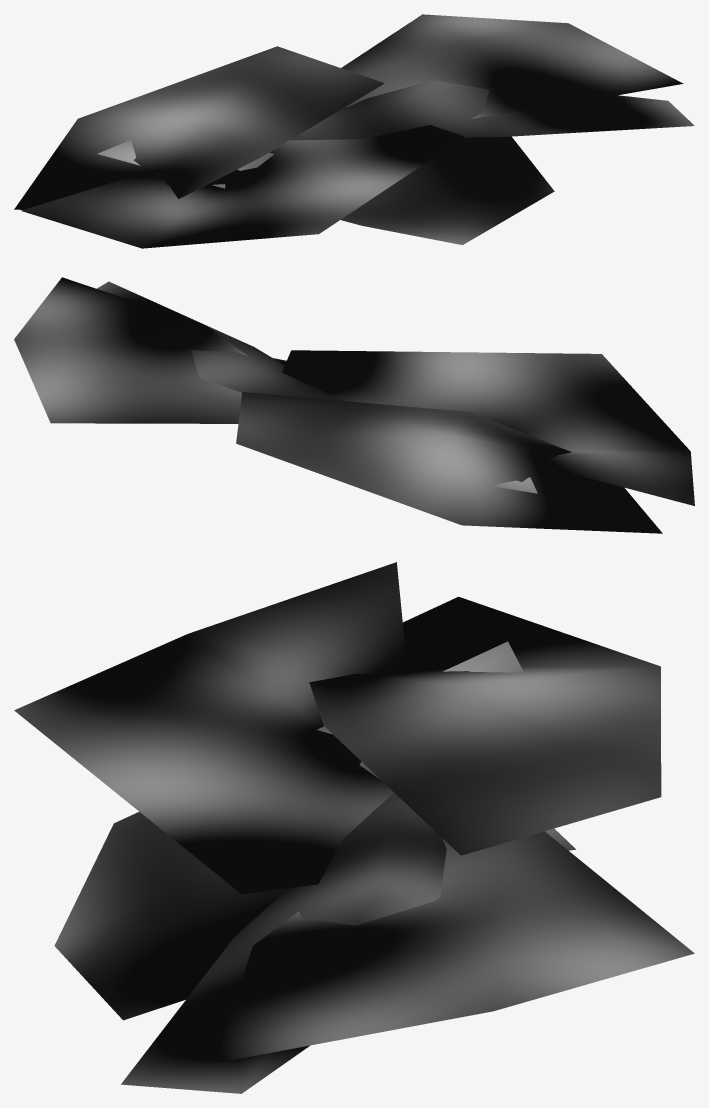
File: SM_Ivy_Plane_055.fbx
3 views of the same model, one above another, from view 1: azimuth 30°, elevation 25°; view 2: azimuth 150°, elevation 25°; view 3: azimuth 270°, elevation 25° (orthographic). The views are drawn at different scales.
Visible parts, largest first — view 1: SM_Ivy_Plane_055; view 2: SM_Ivy_Plane_055; view 3: SM_Ivy_Plane_055.
Boxes of the visible parts, x1,y1,x2,y2 form: SM_Ivy_Plane_055: [14, 14, 694, 248]; SM_Ivy_Plane_055: [14, 277, 694, 533]; SM_Ivy_Plane_055: [14, 562, 694, 1093].
Bounding box in the file's own units: 185 × 100 × 22.41.
Materials: 1 (1 with a texture image).
